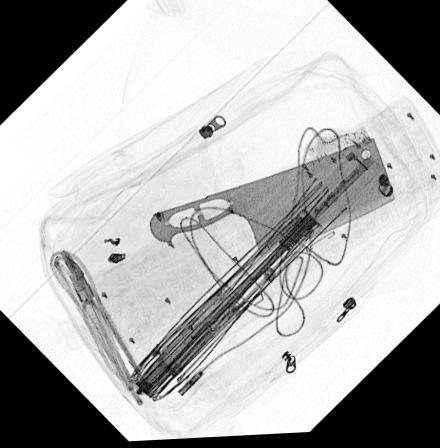Knife: (147, 140, 395, 262)
